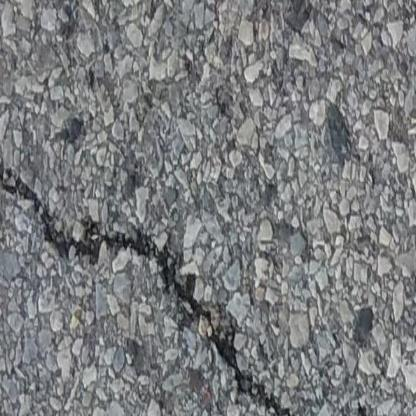Cracks: (0, 162, 381, 416)
